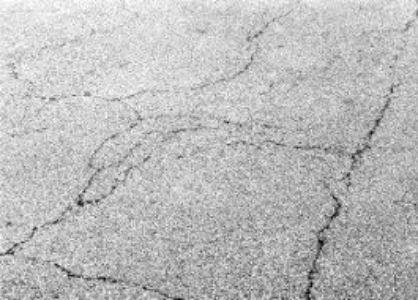alligator-crack: (1, 1, 418, 300)
